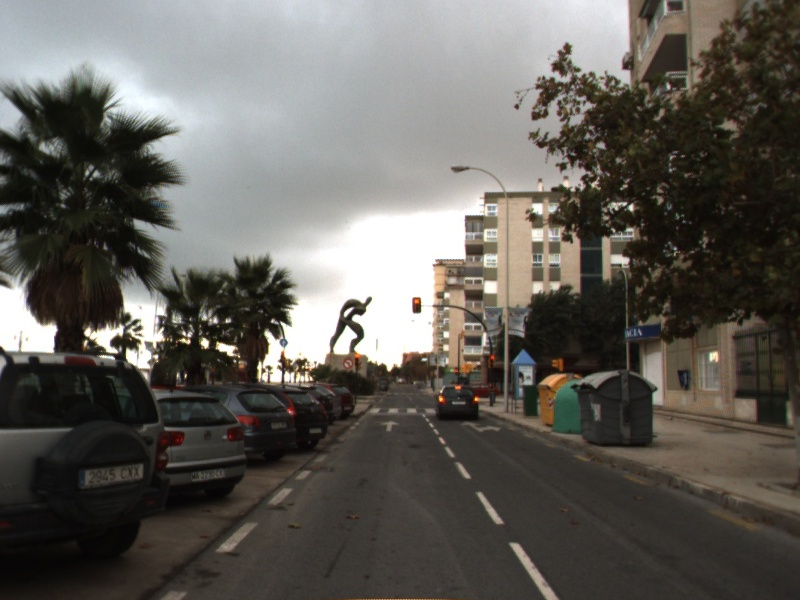STRAIGHT: (379, 419, 402, 433)
STRAIGHT_RIGHT: (459, 419, 503, 434)
